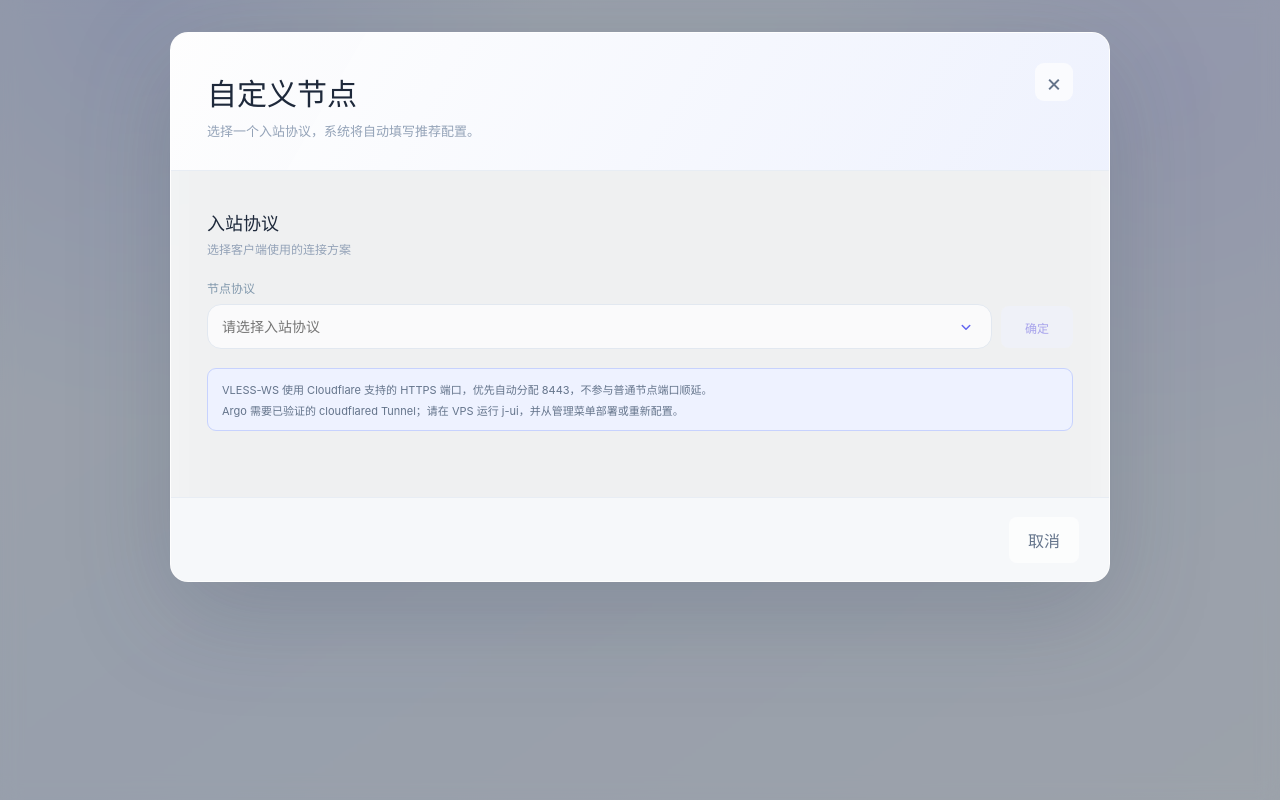
Scenario: NodeFormModal › unlocks TLS protocols when the installer issued an IPv4 certificate
Click the button with class "dropdown-trigger" at (966, 327), box left=948, top=309, right=984, bottom=345
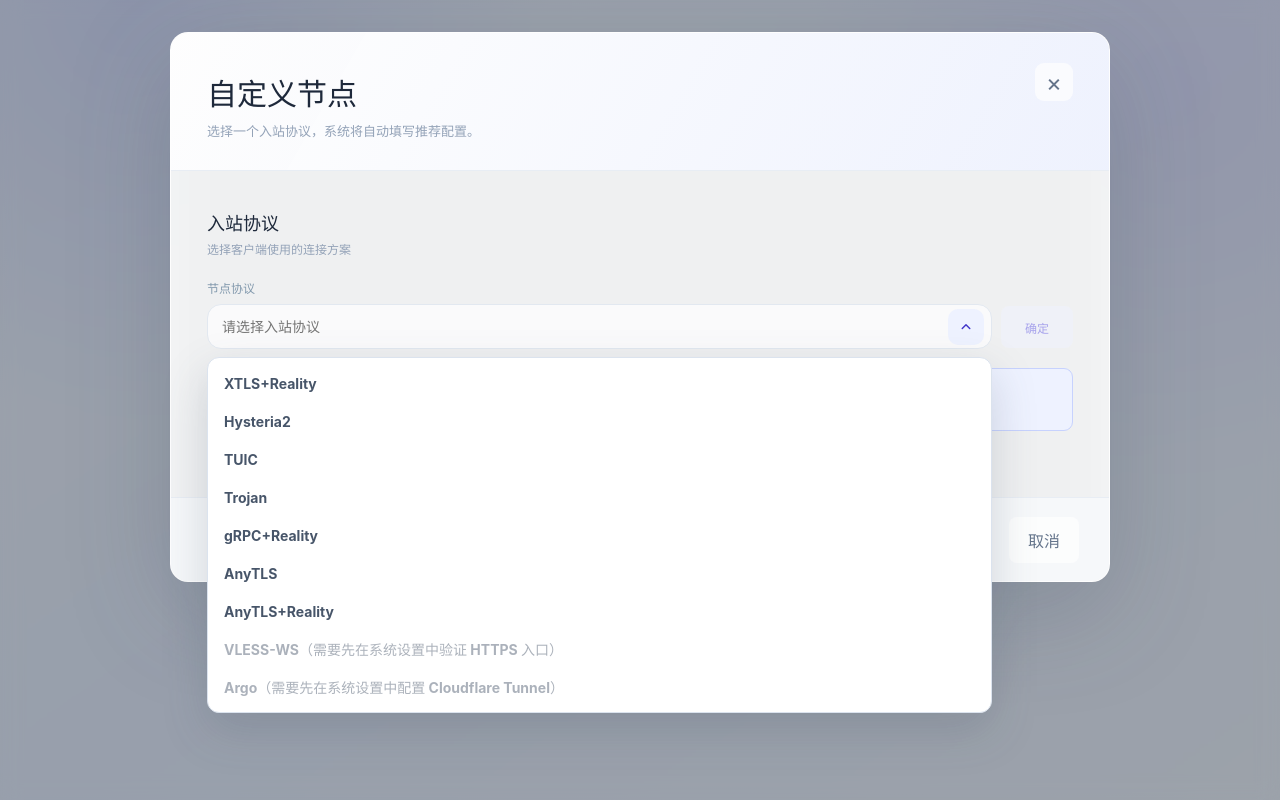
Expected: the option with class "dropdown-option" showing "Hysteria2" is enabled
Expected: the option with class "dropdown-option" showing "TUIC" is enabled, left=214, top=440, right=985, bottom=478
Expected: the option with class "dropdown-option" showing "Trojan" is enabled, left=214, top=478, right=985, bottom=516
Click the option with class "dropdown-option" showing "Hysteria2" at (257, 421), box left=214, top=402, right=985, bottom=440
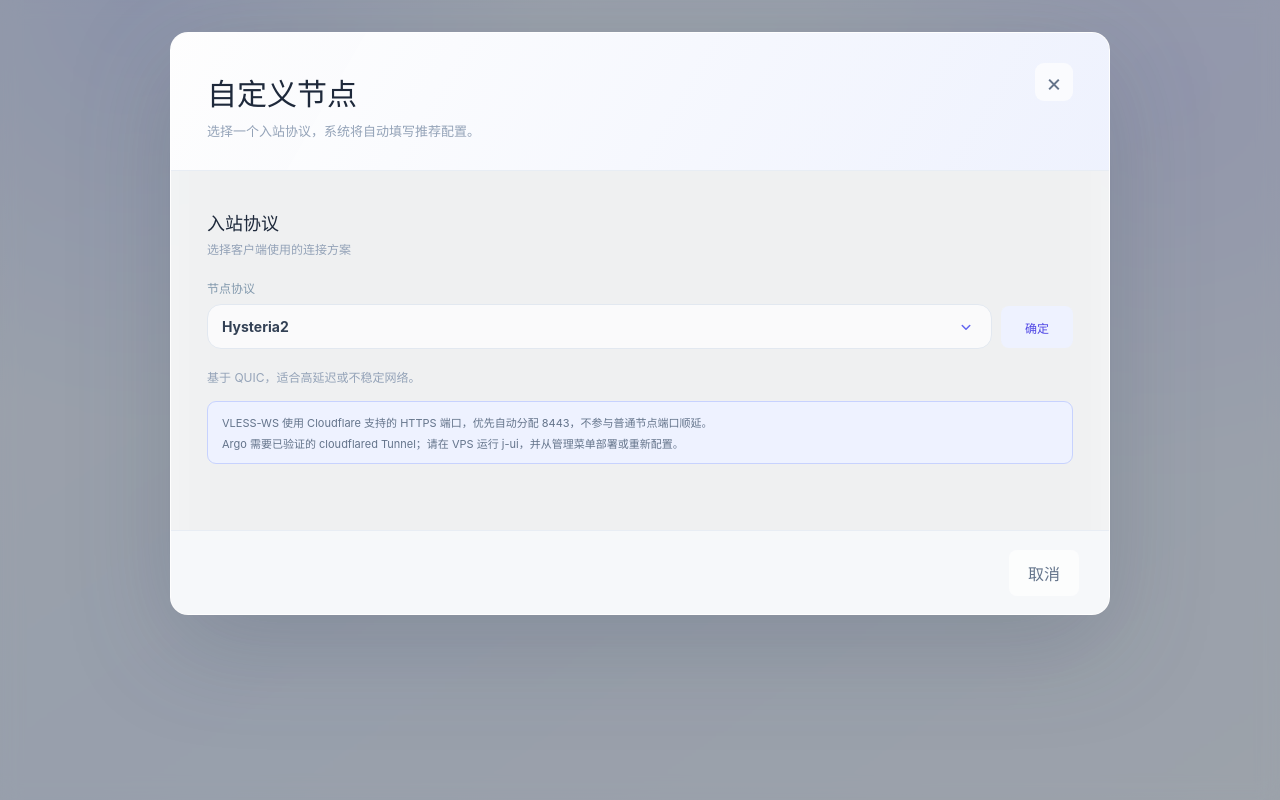
Click the button "确定" at (1037, 327), box left=1001, top=306, right=1073, bottom=348
(page scrolled)
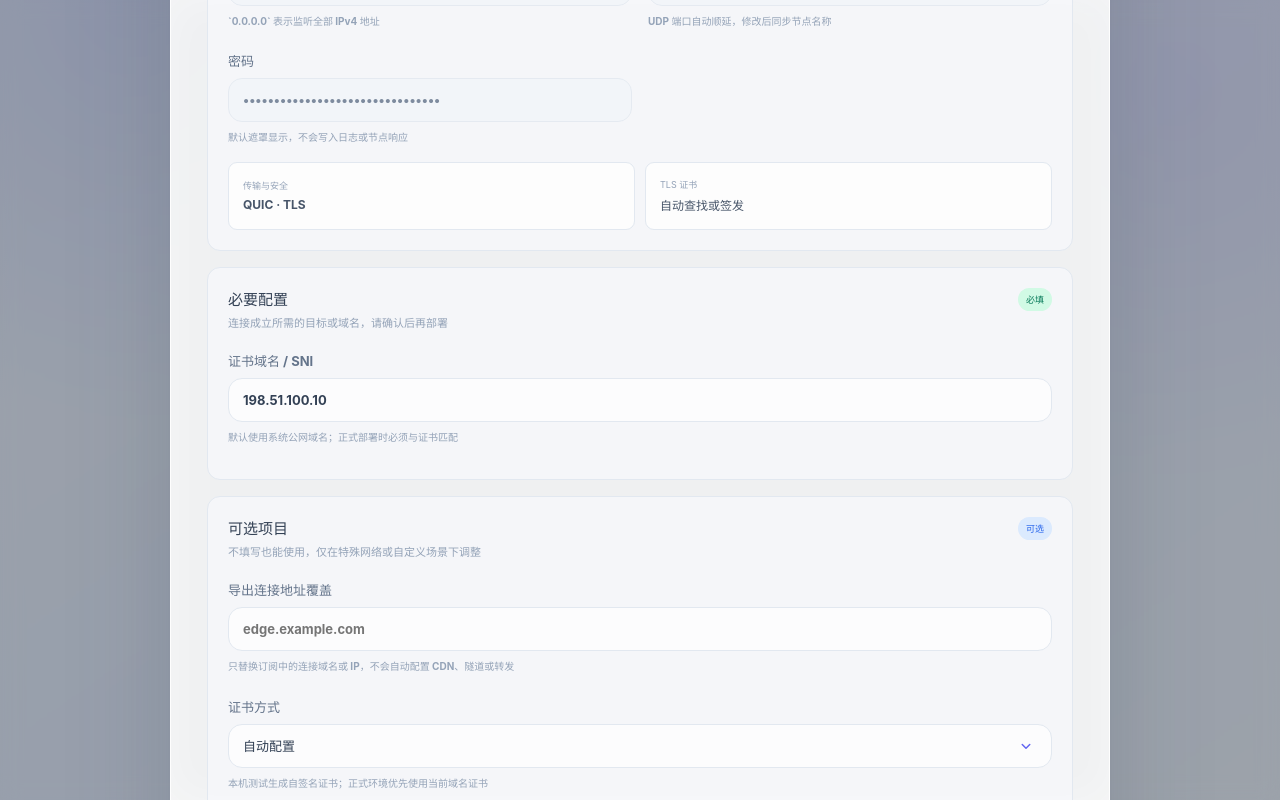
Expected: the field labelled "证书域名 / SNI 默认使用系统公网域名；正式部署时必须与证书匹配" holds "198.51.100.10", left=228, top=378, right=1052, bottom=422
